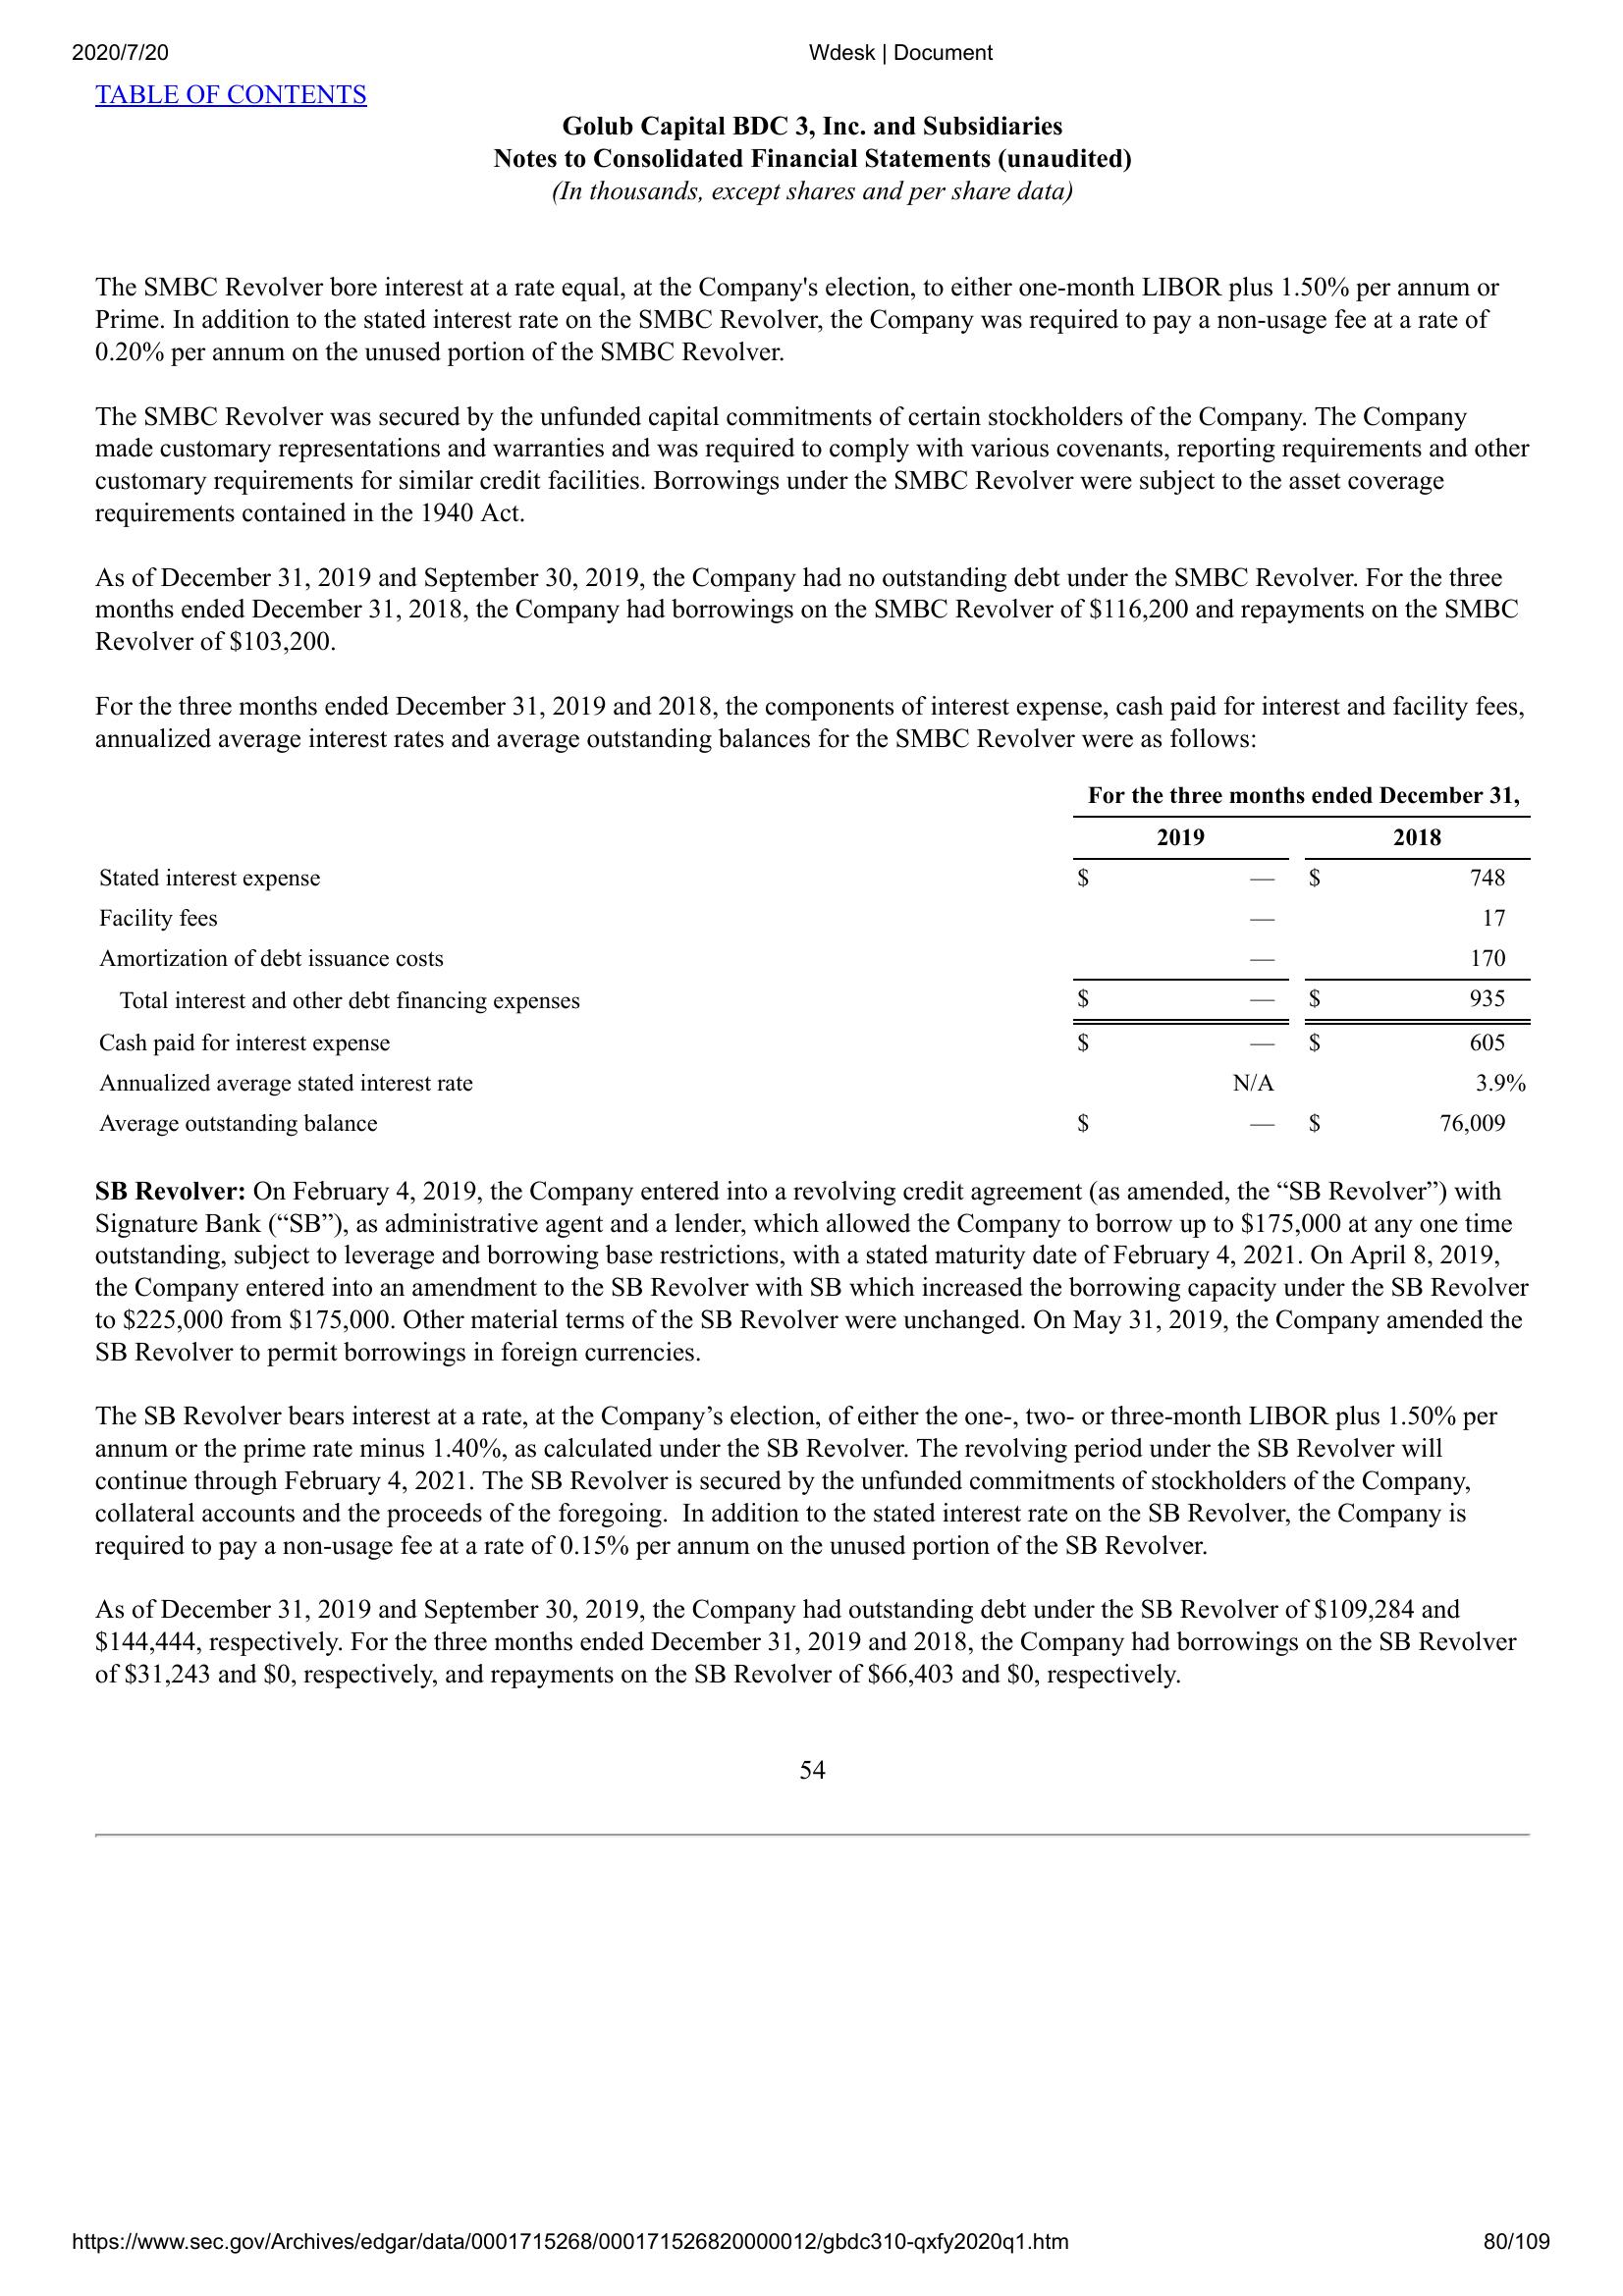table: (90, 785, 1537, 1155)
